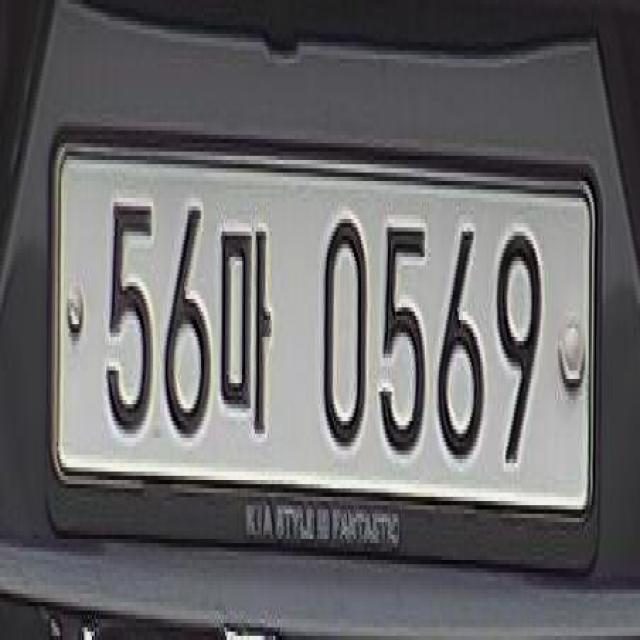illegal_plate: (46, 130, 605, 586)
